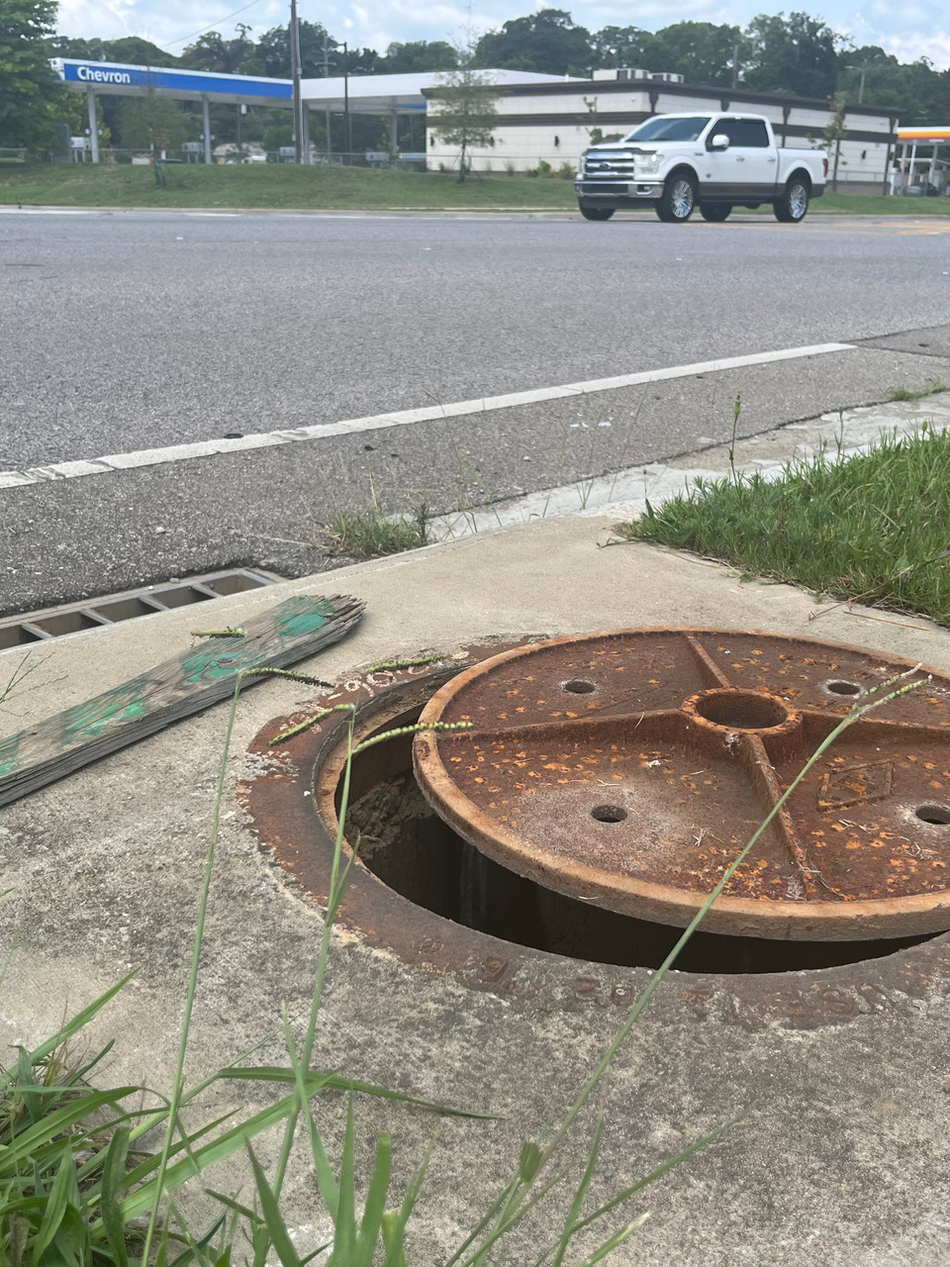Car: (556, 103, 851, 237)
Open_manhole: (204, 609, 950, 1047)
